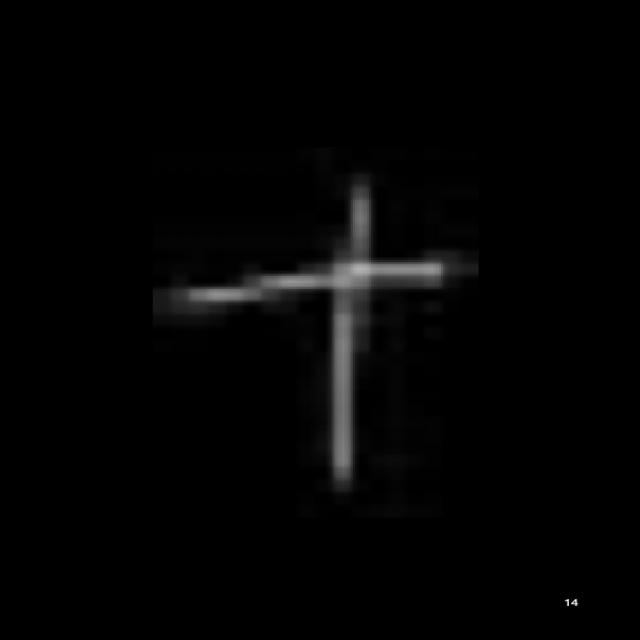10 -ten-: (162, 173, 460, 500)
